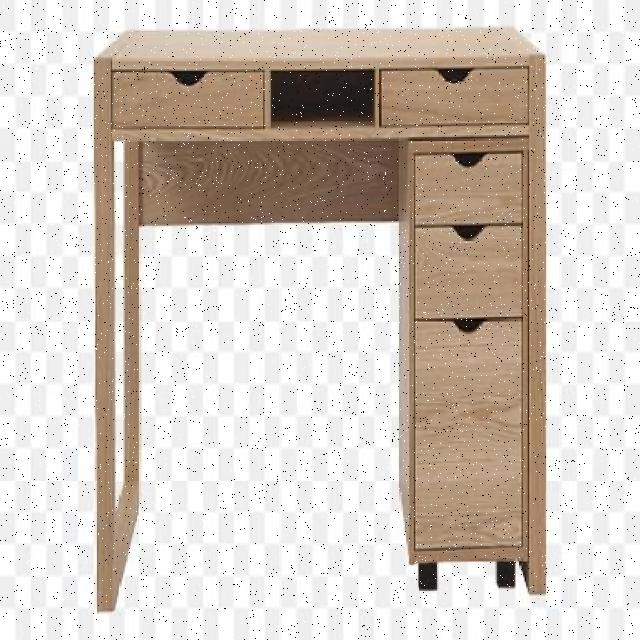mobile-phone: (92, 22, 547, 614)
